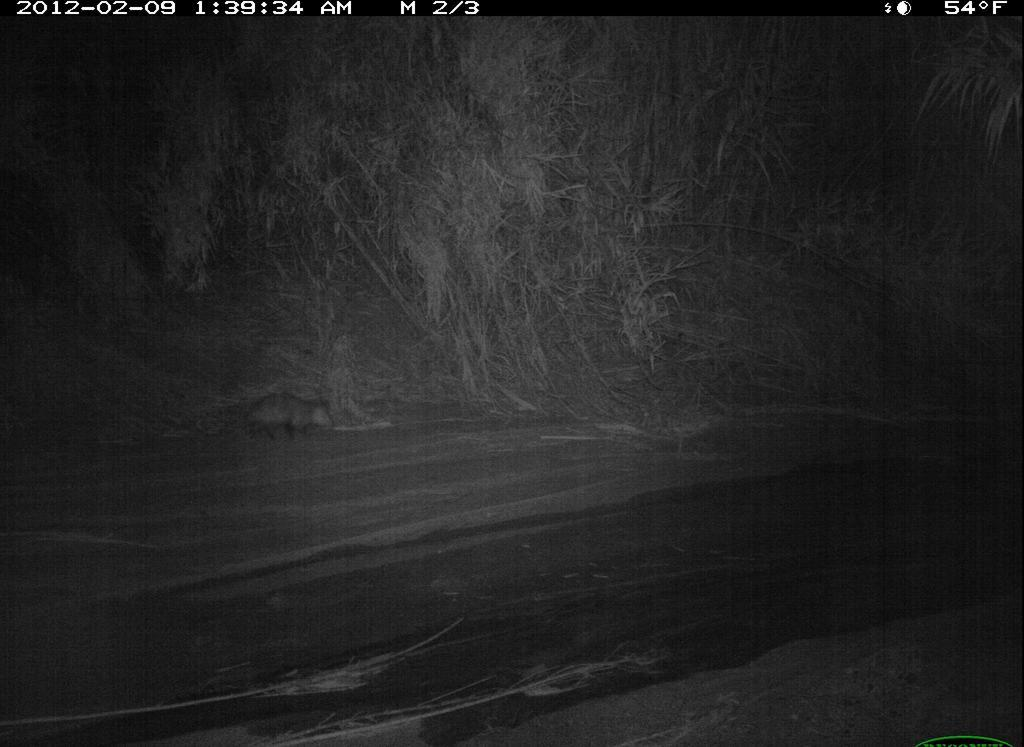opossum: (200, 382, 337, 445)
